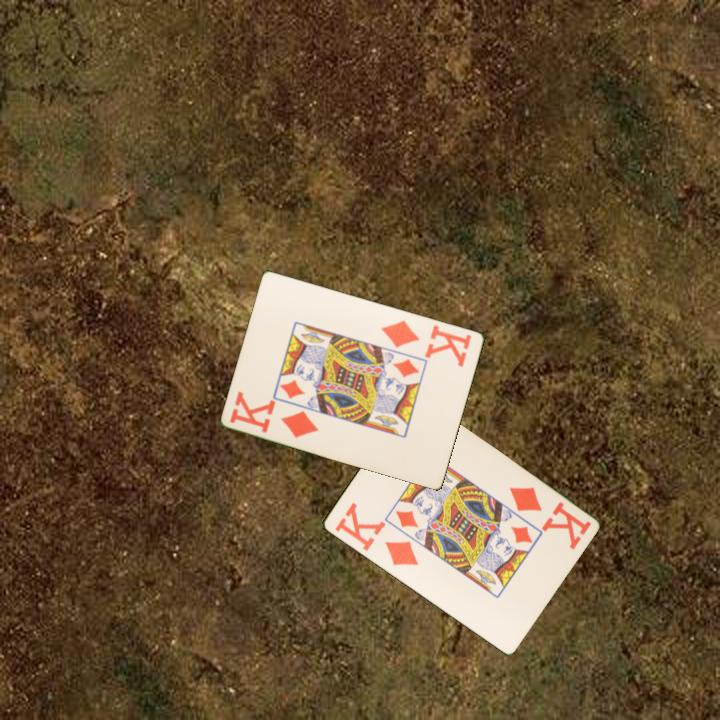Kd: (331, 499, 421, 569), (505, 483, 594, 552), (378, 316, 475, 370), (226, 388, 322, 441)
